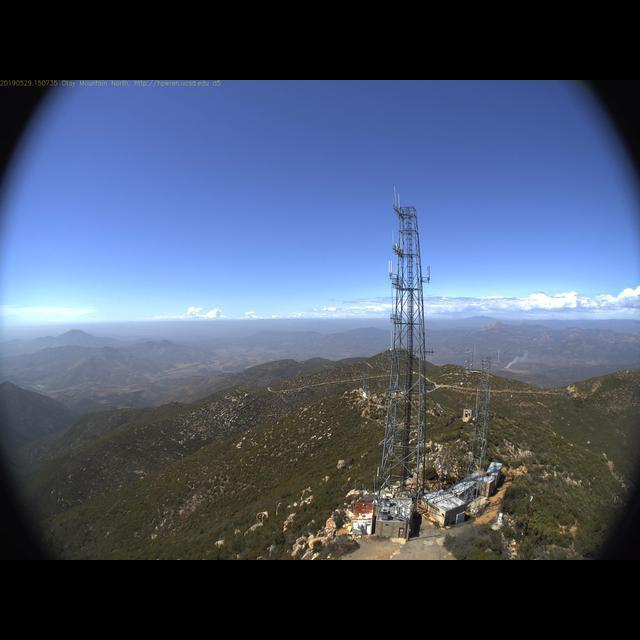Smoke: (501, 345, 555, 370)
